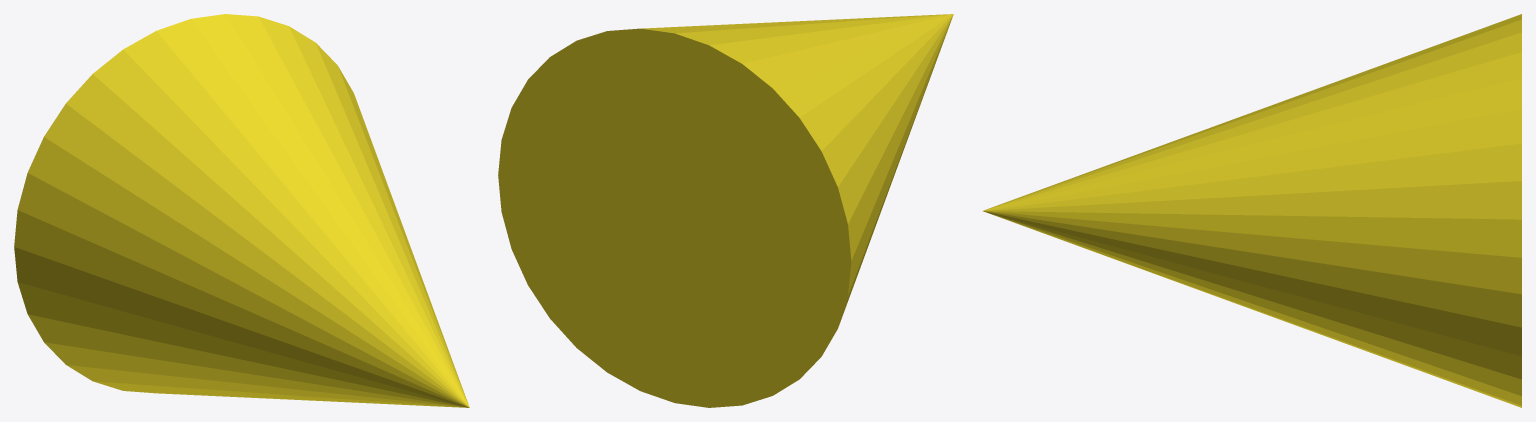
File: cone_yellow.glb
The picture shows the model from 3 angles, left to right: view 1: azimuth 30°, elevation 25°; view 2: azimuth 150°, elevation 25°; view 3: azimuth 270°, elevation 25°; orthographic projection. The views are drawn at different scales.
Visible parts, largest first — view 1: cone_yellow; view 2: cone_yellow; view 3: cone_yellow.
Boxes of the visible parts, x1,y1,x2,y2 form: cone_yellow: [14, 14, 469, 407]; cone_yellow: [498, 14, 953, 407]; cone_yellow: [983, 14, 1521, 407].
Size of the model in its own units: 0.38 by 0.38 by 0.52.
